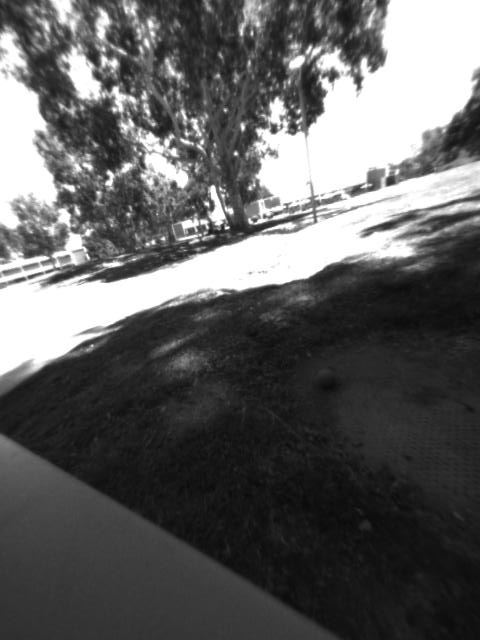dogtoy: (309, 359, 343, 396)
